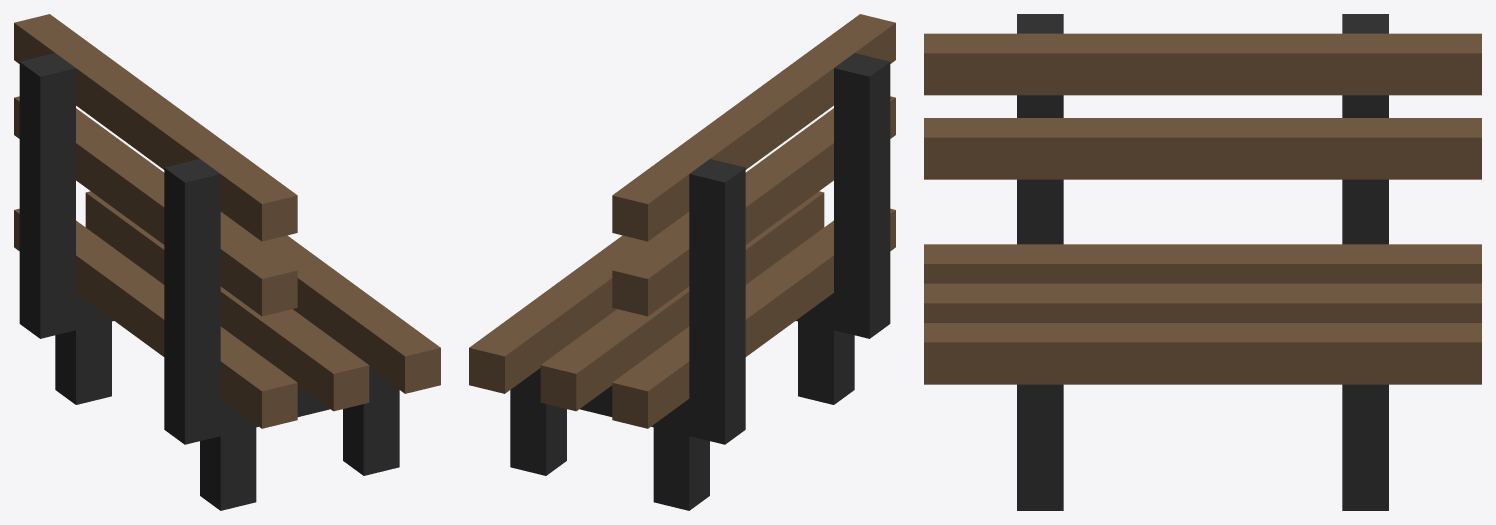
Rendered from bancopraça.obj.
3 renders of one model, left to right at view 1: azimuth 30°, elevation 25°; view 2: azimuth 150°, elevation 25°; view 3: azimuth 270°, elevation 25°, orthographic. The views are drawn at different scales.
Size of the model in its own units: 0.6 by 0.9 by 1.2.
1 material, 1 textured.
